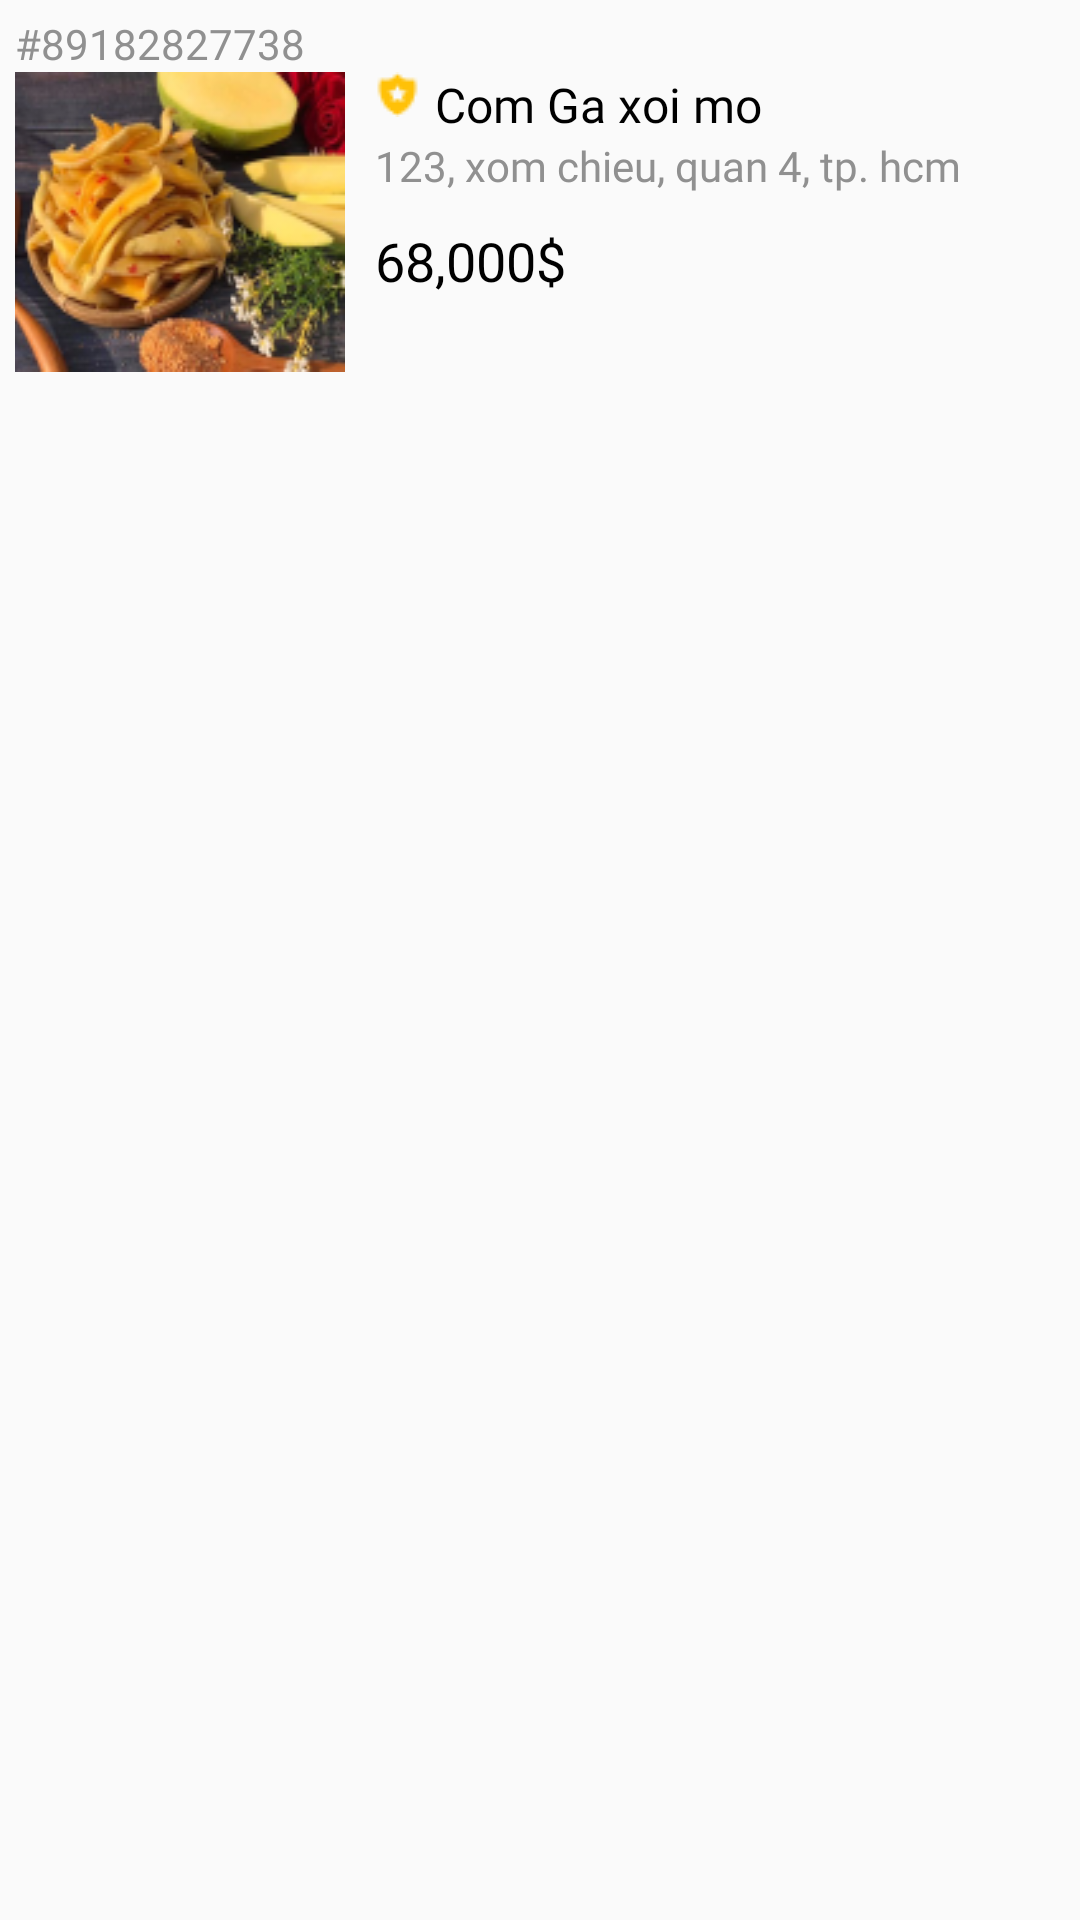

Point at icon controls on the screen. Image size 1080w x 1920h, points as [x,y].
protect: [397,94]
